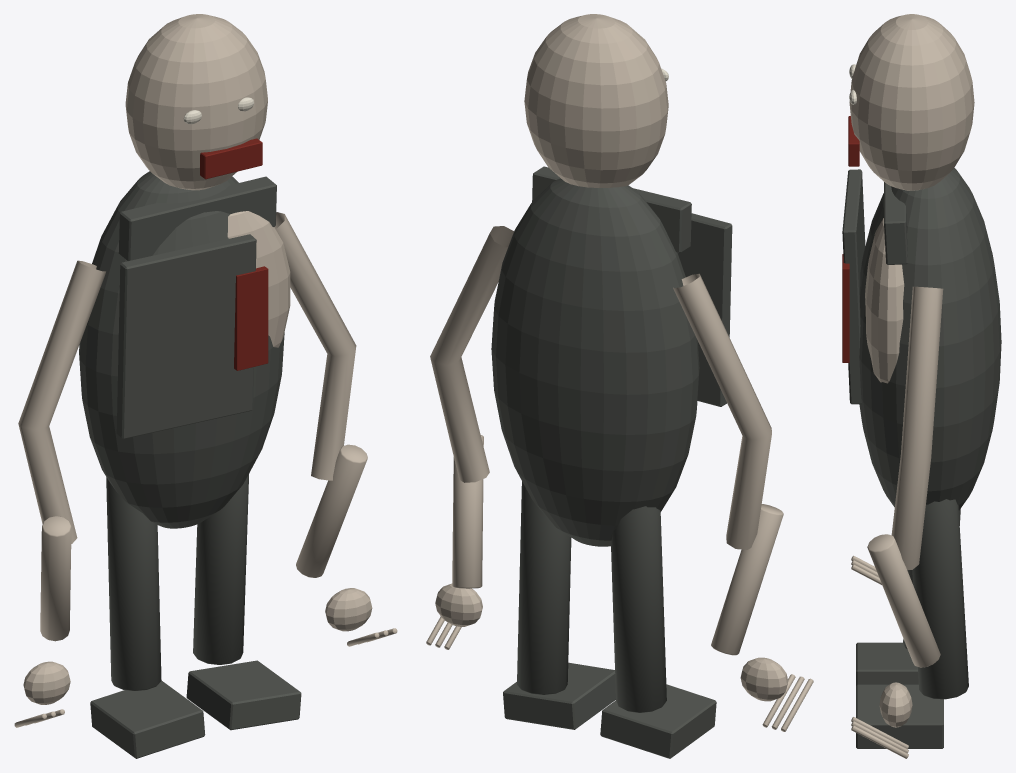
File: dz_enemy_walker_male_A.glb
3 views of the same model, side by side, from view 1: azimuth 30°, elevation 25°; view 2: azimuth 150°, elevation 25°; view 3: azimuth 270°, elevation 25° (orthographic).
Visible parts, largest first — view 1: dz_torso_core, dz_shredded_jacket_panel, dz_head_forward, dz_limb_leg_L, dz_limb_arm_L, dz_limb_leg_R, dz_limb_arm_R, dz_foot_drag_L, dz_foot_drag_R, dz_torn_collar_male, dz_limb_forearm_R, dz_limb_forearm_L (+5 smaller); view 2: dz_torso_core, dz_head_forward, dz_limb_leg_L, dz_limb_leg_R, dz_limb_arm_L, dz_limb_arm_R, dz_foot_drag_L, dz_foot_drag_R, dz_shredded_jacket_panel, dz_limb_forearm_L, dz_limb_forearm_R, dz_torn_collar_male (+2 smaller); view 3: dz_torso_core, dz_head_forward, dz_limb_arm_R, dz_limb_leg_R, dz_chest_infected_growth, dz_limb_forearm_R, dz_foot_drag_R, dz_shredded_jacket_panel, dz_foot_drag_L, dz_torn_collar_male, dz_hand_claw_R, dz_open_wound_chest (+2 smaller).
Part boxes in pixels (x1,y1,x2,y2): dz_torso_core: (79,171,284,528); dz_shredded_jacket_panel: (116,234,256,439); dz_head_forward: (125,14,267,190); dz_limb_leg_L: (106,477,161,690); dz_limb_arm_L: (18,260,105,543); dz_limb_leg_R: (193,473,249,664); dz_limb_arm_R: (274,212,356,480); dz_foot_drag_L: (90,681,205,758); dz_foot_drag_R: (186,660,301,730); dz_torn_collar_male: (118,176,276,260); dz_limb_forearm_R: (296,444,367,577); dz_limb_forearm_L: (40,516,71,641); dz_torso_core: (491,178,699,546); dz_head_forward: (524,14,668,187); dz_limb_leg_L: (611,506,666,712); dz_limb_leg_R: (517,481,571,694); dz_limb_arm_L: (673,273,771,549); dz_limb_arm_R: (430,226,513,482); dz_foot_drag_L: (600,684,716,758); dz_foot_drag_R: (503,662,615,729); dz_shredded_jacket_panel: (677,213,732,406); dz_limb_forearm_L: (711,504,783,655); dz_limb_forearm_R: (452,435,483,588); dz_torn_collar_male: (532,166,691,253); dz_torso_core: (859,168,1001,510); dz_head_forward: (849,14,974,190); dz_limb_arm_R: (891,286,943,569); dz_limb_leg_R: (912,499,968,699); dz_chest_infected_growth: (865,218,904,383); dz_limb_forearm_R: (867,534,940,667); dz_foot_drag_R: (856,684,943,748); dz_shredded_jacket_panel: (842,169,865,404); dz_foot_drag_L: (856,642,918,685); dz_torn_collar_male: (884,182,907,264); dz_hand_claw_R: (879,682,912,727); dz_open_wound_chest: (842,254,849,362).
Size of what is drawn, in the model's own units: 1.02 by 1.92 by 0.3981.
